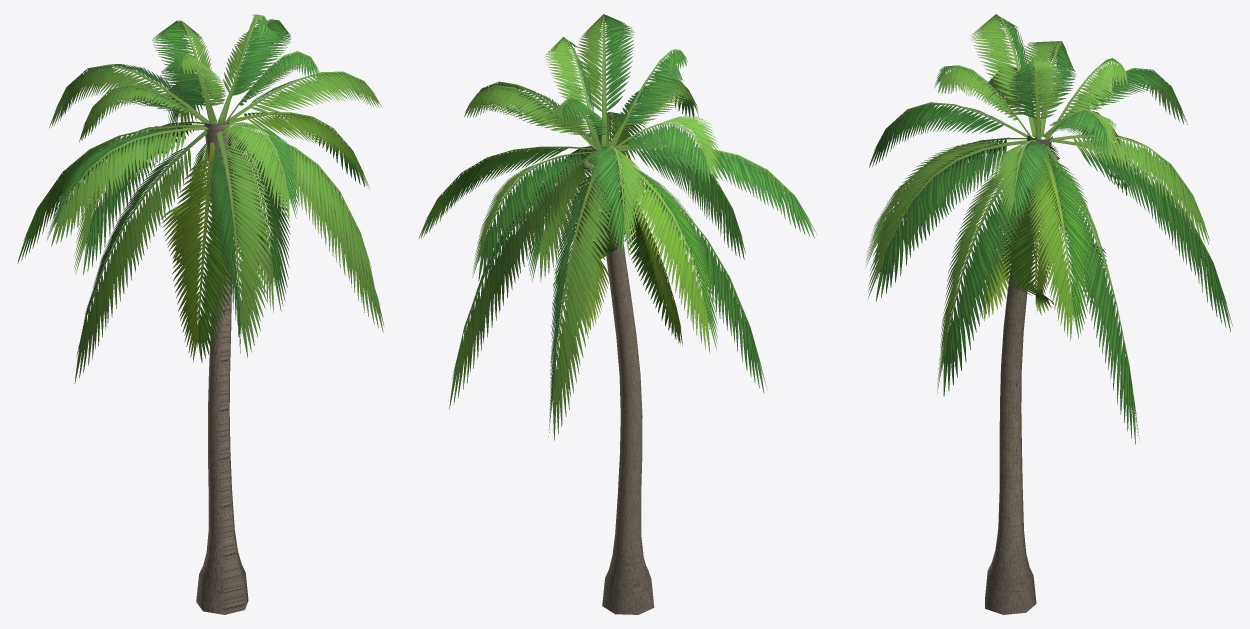
Rendered from palm-a.glb.
The picture shows the model from 3 angles, left to right: view 1: azimuth 30°, elevation 25°; view 2: azimuth 150°, elevation 25°; view 3: azimuth 270°, elevation 25°; orthographic projection.
Visible parts, largest first — view 1: palm-1; view 2: palm-1; view 3: palm-1.
Part boxes in pixels (x1,y1,x2,y2): palm-1: (17,14,384,614); palm-1: (418,14,816,614); palm-1: (865,14,1232,614).
Bounding box in the file's own units: 9.52 × 14.12 × 8.7.
Materials: 2 (2 with a texture image).
